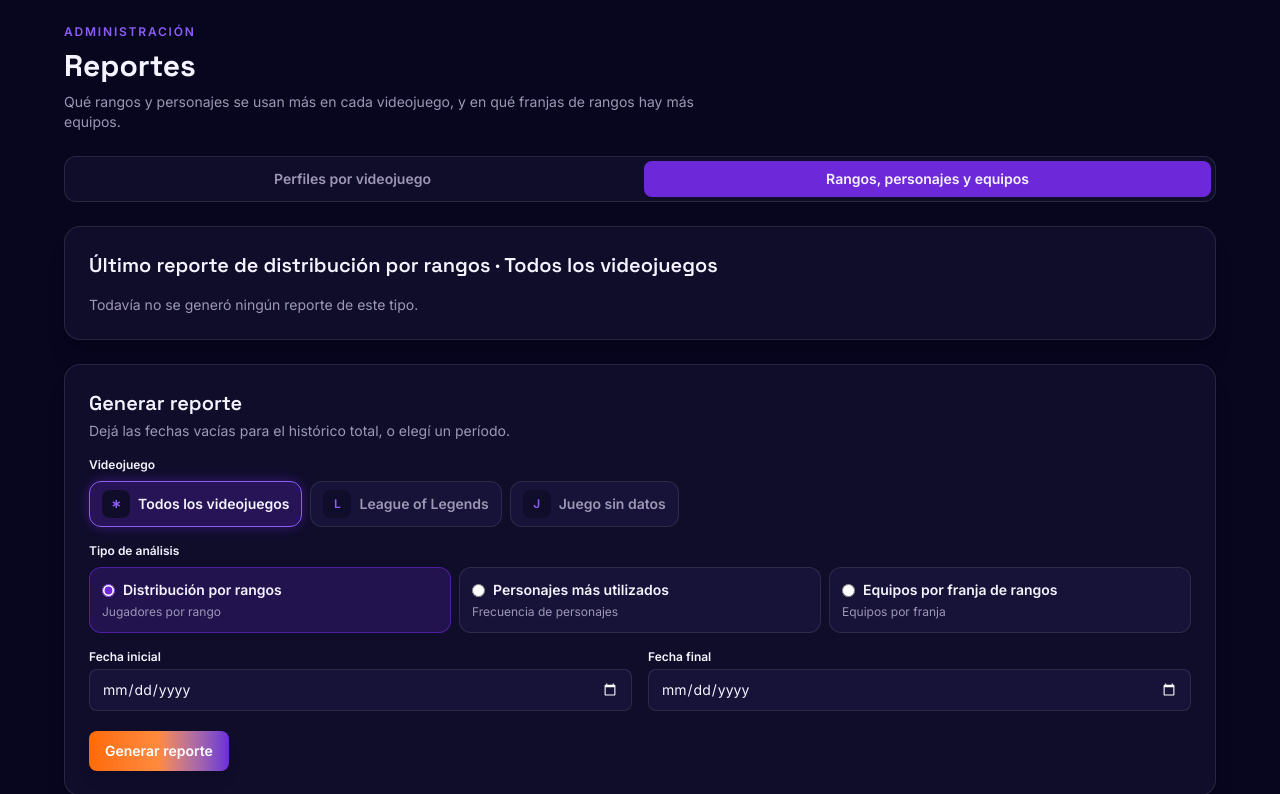
Test: ReporteUsoPage - US 38 Reporte de uso por videojuego › avisa si el videojuego no tiene datos
The image size is (1280, 794).
Click the radio button labelled "Juego sin datos". click: click(594, 504)
box: left=510, top=481, right=679, bottom=527
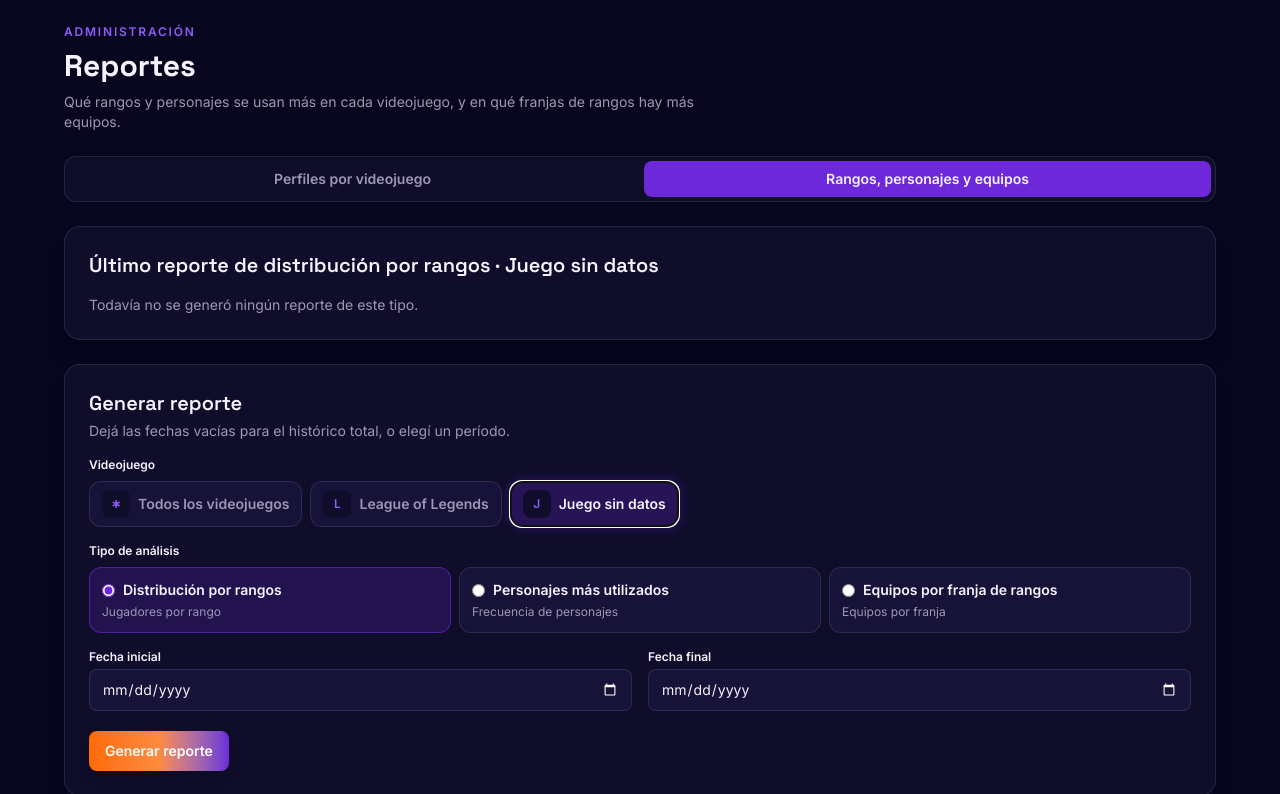
Click the button "Generar reporte". click: click(159, 751)
box: left=89, top=731, right=229, bottom=771
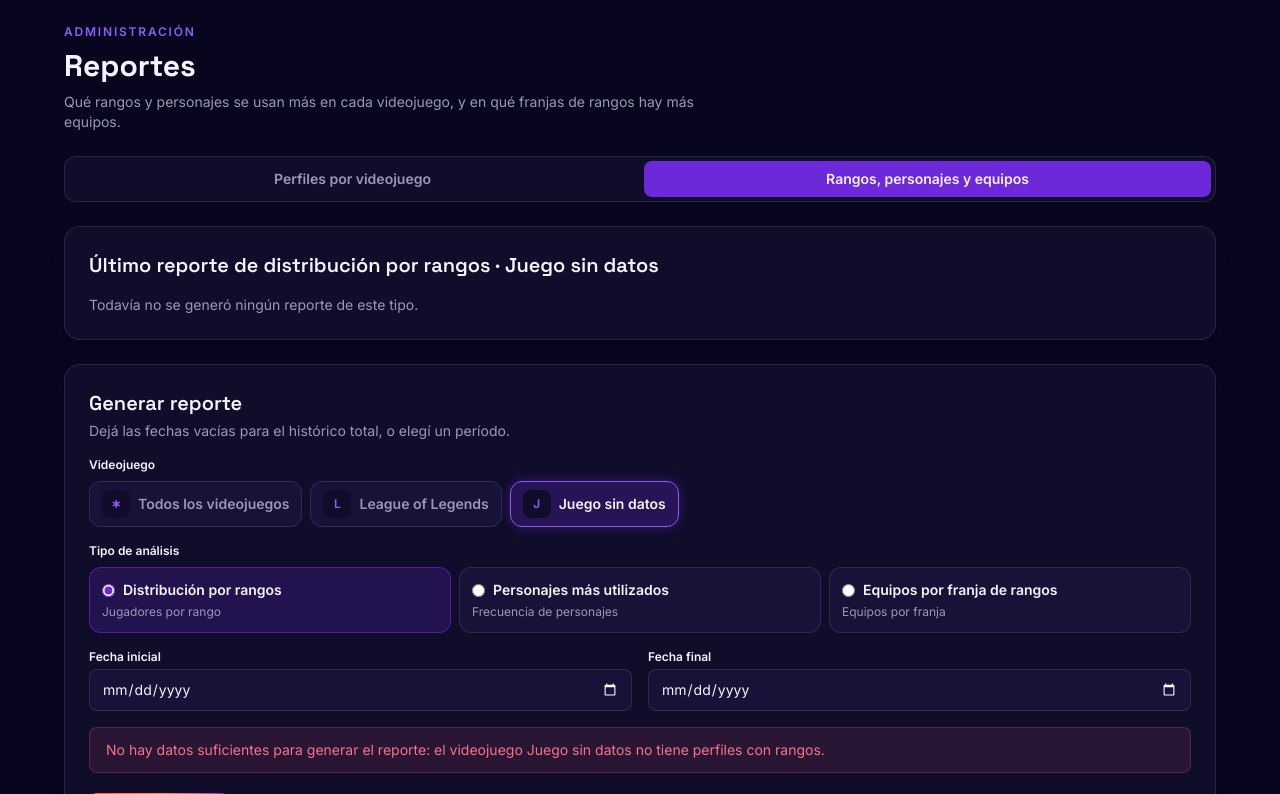
Expected: the text "No hay datos suficientes" is shown, left=106, top=741, right=825, bottom=758
